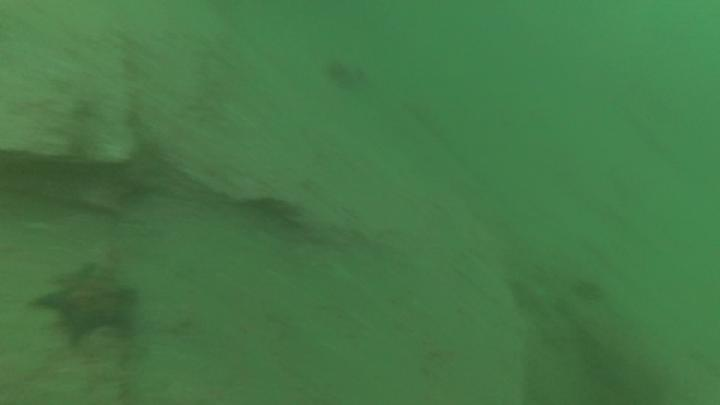echinus: (569, 277, 608, 306), (324, 60, 355, 86)
starfish: (30, 261, 140, 351)
